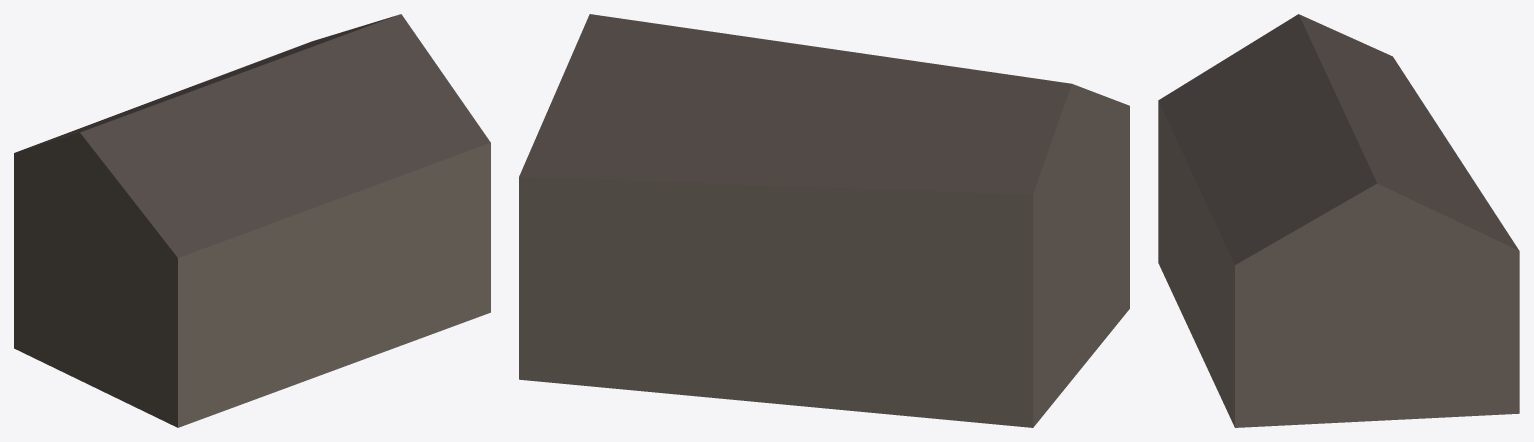
3 renders of one model, left to right at view 1: azimuth 30°, elevation 25°; view 2: azimuth 150°, elevation 25°; view 3: azimuth 270°, elevation 25°, orthographic. The views are drawn at different scales.
Visible parts, largest first — view 1: HP-w1512359803; view 2: HP-w1512359803; view 3: HP-w1512359803.
Boxes of the visible parts, bbox=[...] form: HP-w1512359803: bbox=[14, 14, 490, 427]; HP-w1512359803: bbox=[519, 14, 1129, 427]; HP-w1512359803: bbox=[1158, 14, 1519, 427].
Bounding box in the file's own units: 14.58 × 8.76 × 12.07.
